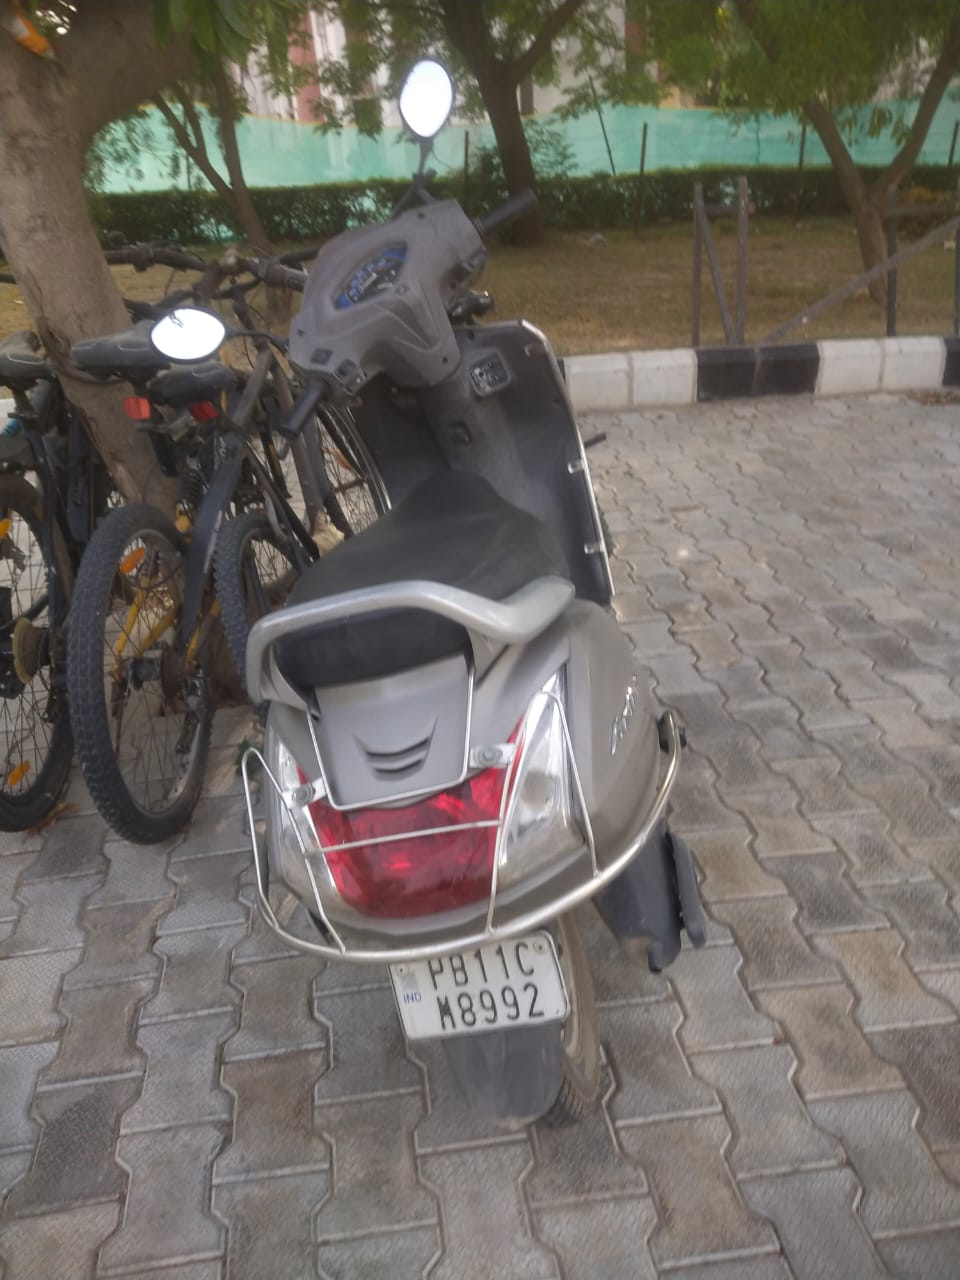license plate: (390, 932, 567, 1038)
